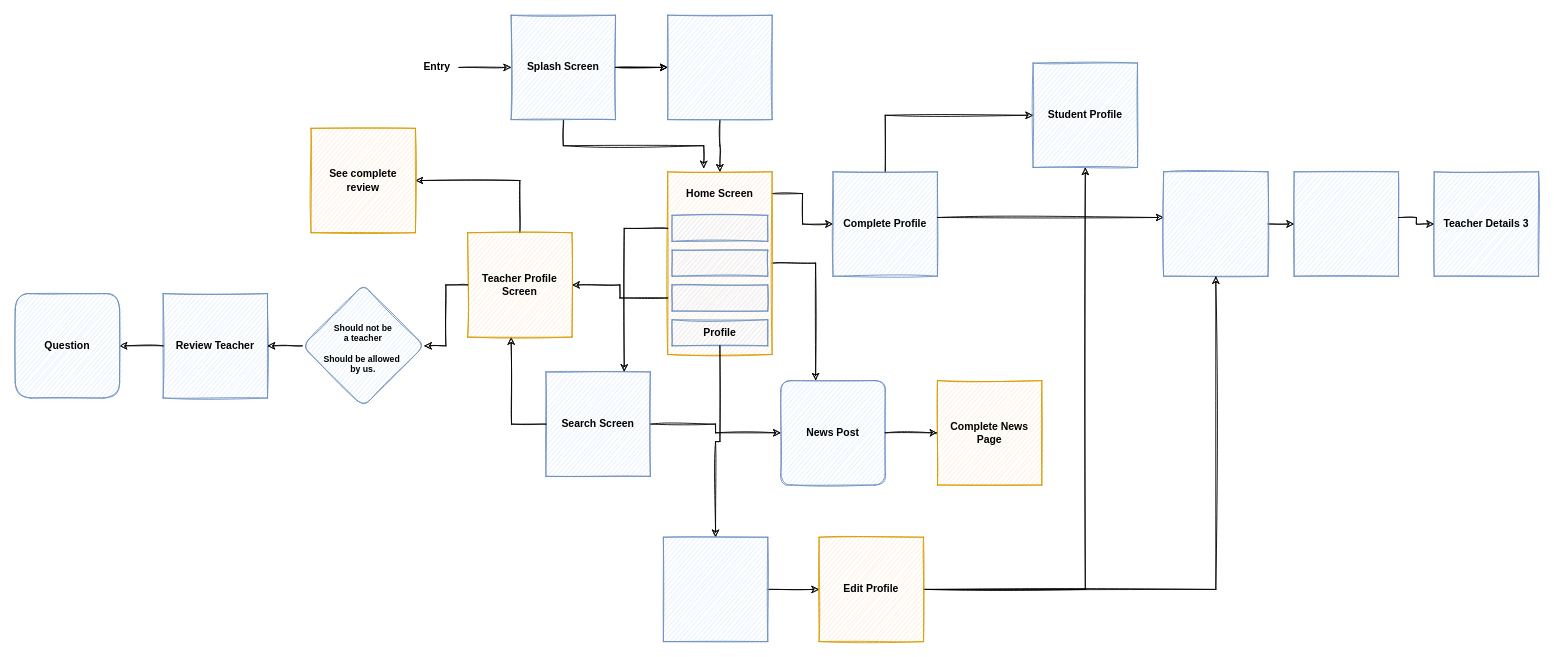
The diagram is 1554 pixels wide and 657 high, and some of its shapes have lost their labels. The box of each missing label's shape, as (x1, y1, x2, y2) in pixels:
Login Screen: (667, 14, 772, 120)
News Section: (671, 249, 768, 276)
Search Bar: (671, 214, 768, 241)
Teacher Details 2: (1293, 171, 1399, 276)
Teacher Profile: (1163, 171, 1268, 276)
Teacher Suggest: (671, 284, 768, 311)
View Profile: (663, 536, 768, 642)
